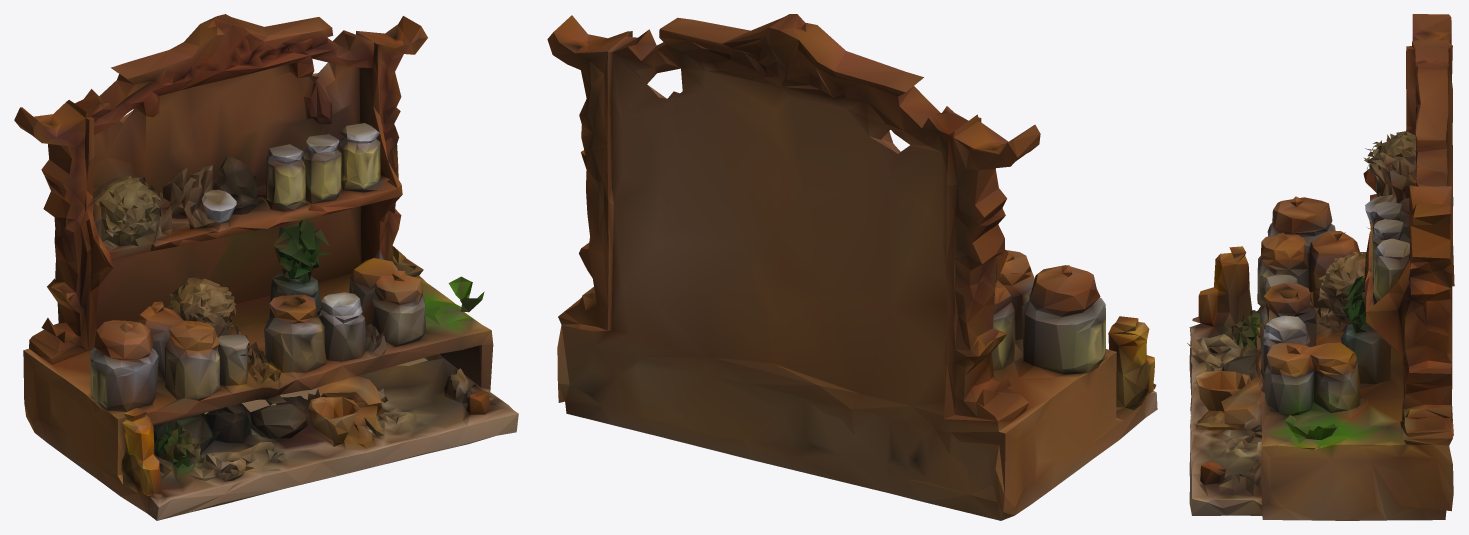
The model's file is bq_apothecary.vc.glb.
The picture shows the model from 3 angles, left to right: view 1: azimuth 30°, elevation 25°; view 2: azimuth 150°, elevation 25°; view 3: azimuth 270°, elevation 25°; orthographic projection. The views are drawn at different scales.
Visible parts, largest first — view 1: bq_apothecary; view 2: bq_apothecary; view 3: bq_apothecary.
Part boxes in pixels (left/top/right/bottom): bq_apothecary: left=14, top=14, right=518, bottom=520; bq_apothecary: left=547, top=14, right=1157, bottom=520; bq_apothecary: left=1187, top=14, right=1454, bottom=520.
Size of the model in its own units: 1.99 by 1.77 by 1.17.
